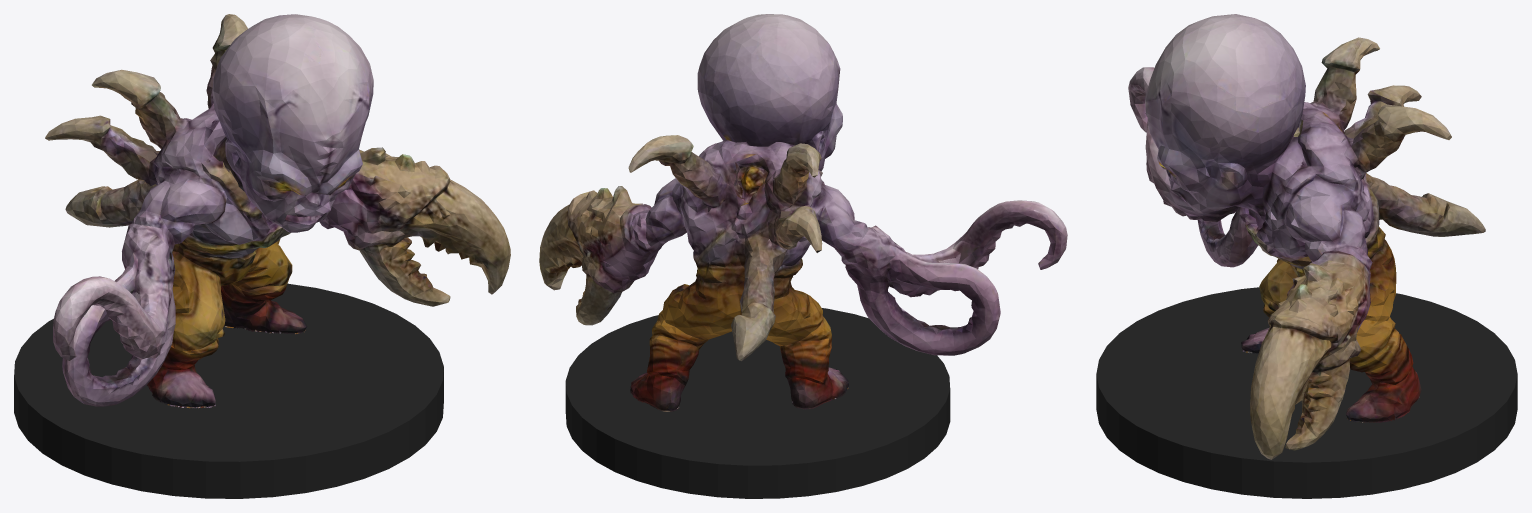
The model's file is metamorph-mutant.glb.
The picture shows the model from 3 angles, left to right: view 1: azimuth 30°, elevation 25°; view 2: azimuth 150°, elevation 25°; view 3: azimuth 270°, elevation 25°; orthographic projection. The views are drawn at different scales.
Parts seen in each view (by area): view 1: figure, base; view 2: figure, base; view 3: figure, base.
Part boxes in pixels (x1,y1,x2,y2): figure: (45, 14, 510, 408); base: (14, 283, 443, 498); figure: (539, 14, 1067, 411); base: (565, 308, 950, 498); figure: (1128, 14, 1485, 459); base: (1096, 287, 1517, 498).
Size of the model in its own units: 1.75 by 1.32 by 1.26.
Materials: 2 (1 with a texture image).
